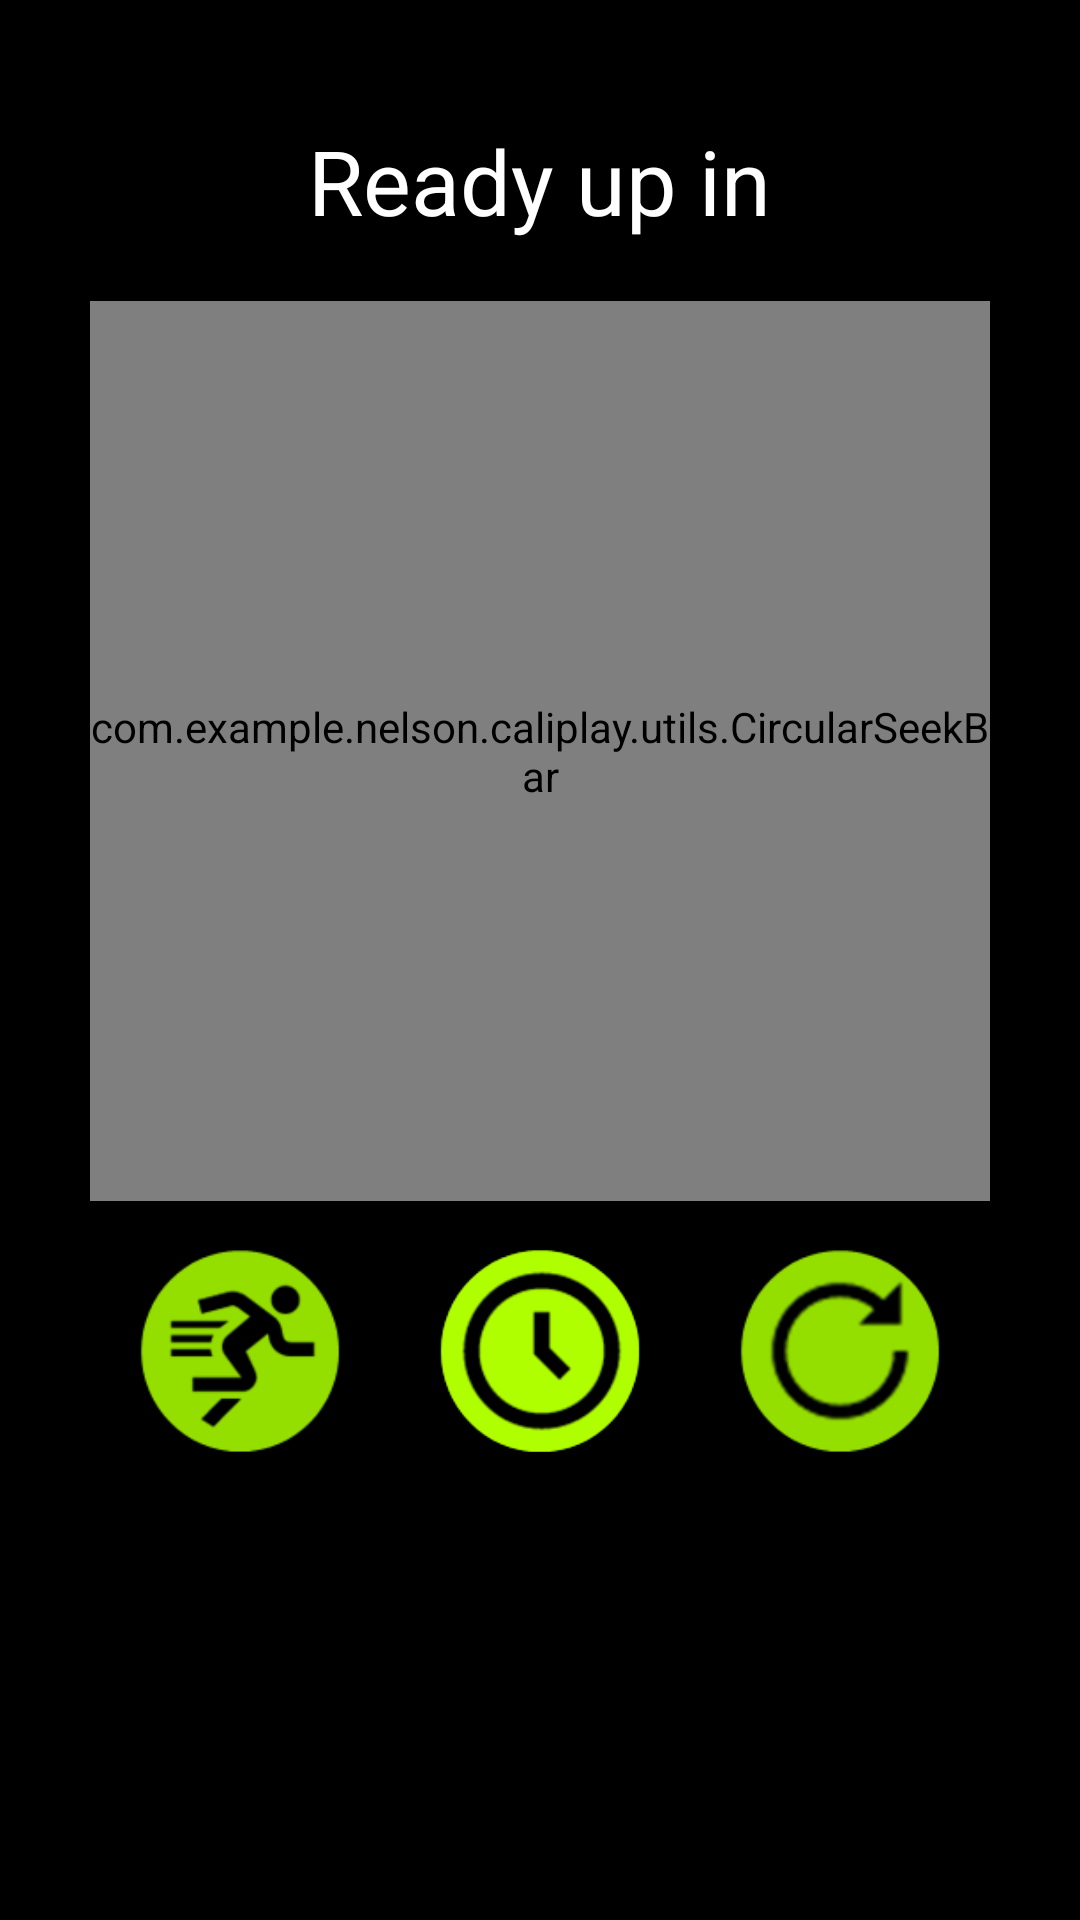

Point at icon controls on the screen. Image size 1080x1920, points as [x,y].
fast ready timer: [240,1351]
redo ready timer: [840,1351]
